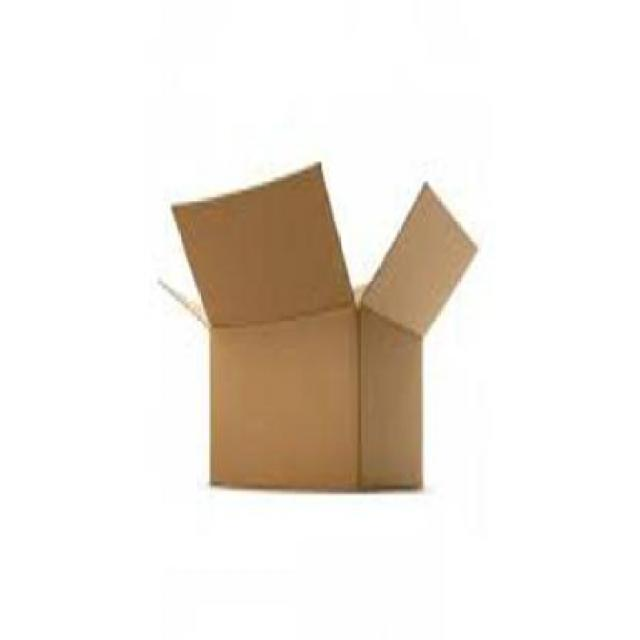defect: (156, 158, 484, 502)
